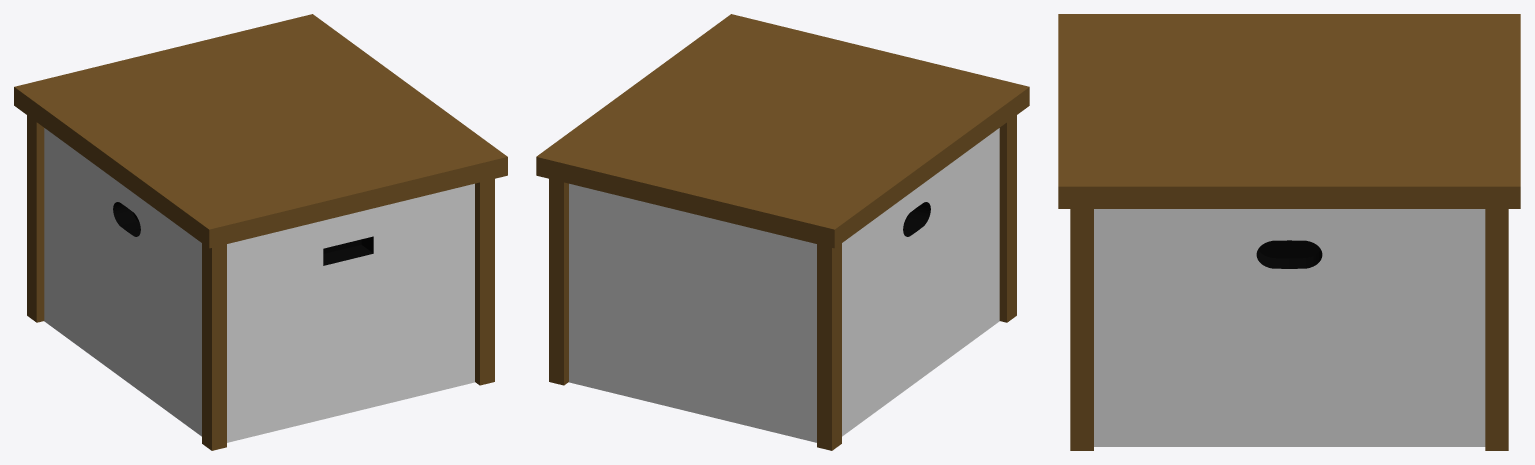
3 views of the same model, side by side, from view 1: azimuth 30°, elevation 25°; view 2: azimuth 150°, elevation 25°; view 3: azimuth 270°, elevation 25° (orthographic). The views are drawn at different scales.
Parts seen in each view (by area): view 1: 큐브; view 2: 큐브; view 3: 큐브.
Part boxes in pixels (box(x1,y1,x2,y2)): 큐브: box(14, 14, 507, 450); 큐브: box(536, 14, 1029, 450); 큐브: box(1058, 14, 1520, 450).
Bounding box in the file's own units: 6.45 × 4.69 × 7.3.
